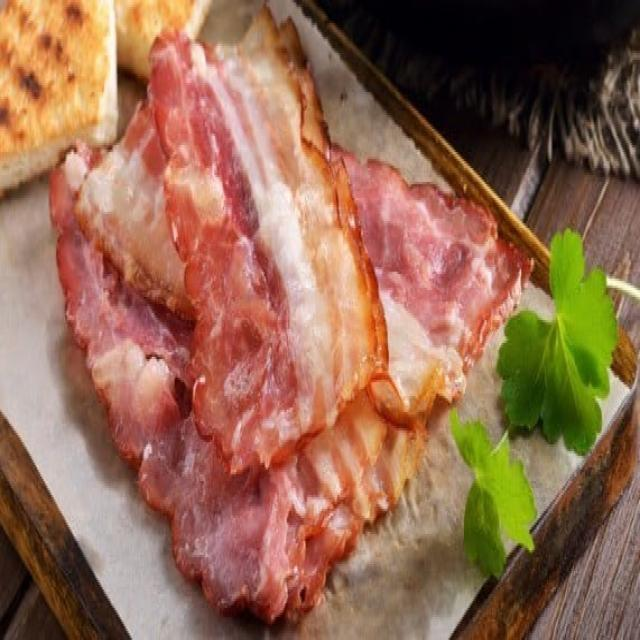bacon: (63, 66, 493, 622)
